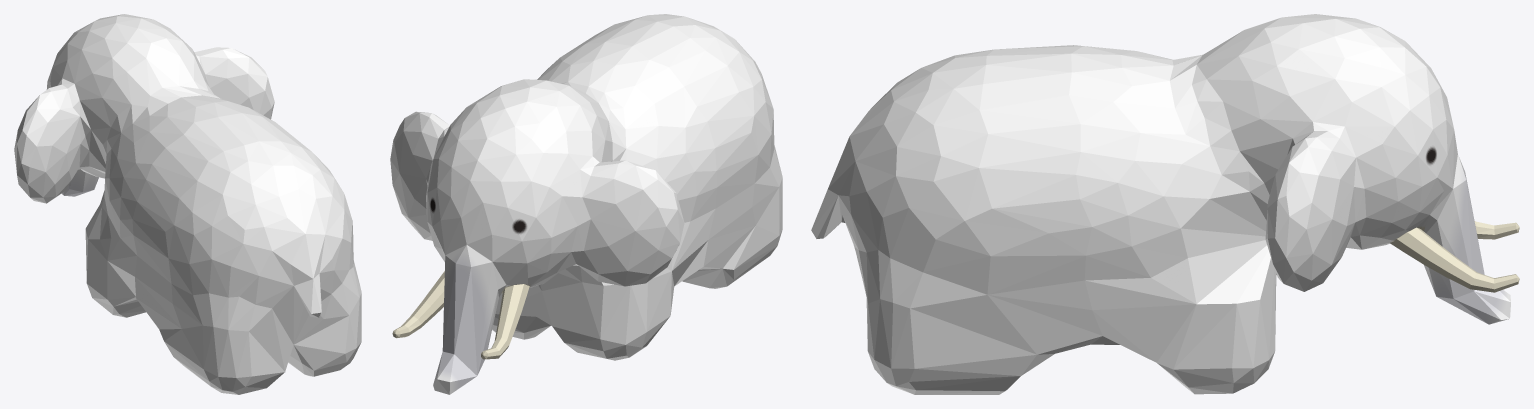
Rendered from animal_elephant_blob.obj.
3 renders of one model, left to right at view 1: azimuth 30°, elevation 25°; view 2: azimuth 150°, elevation 25°; view 3: azimuth 270°, elevation 25°, orthographic. The views are drawn at different scales.
Parts seen in each view (by area): view 1: animal_elephant_blob; view 2: animal_elephant_blob; view 3: animal_elephant_blob.
Boxes of the visible parts, x1,y1,x2,y2 form: animal_elephant_blob: [14, 14, 361, 394]; animal_elephant_blob: [390, 14, 782, 394]; animal_elephant_blob: [811, 14, 1519, 394].
Bounding box in the file's own units: 1.63 × 1.53 × 2.91.
